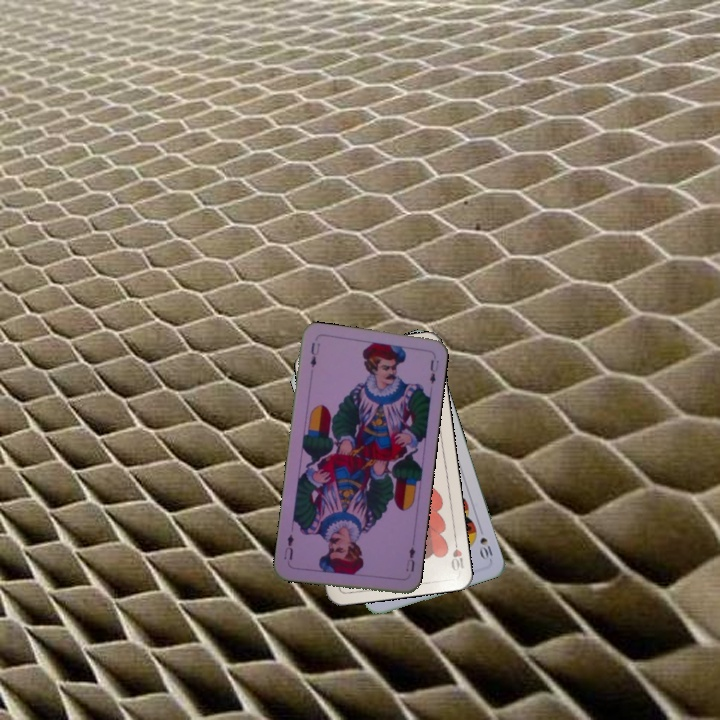EU: (401, 542, 418, 574), (306, 338, 322, 370)
H10: (447, 533, 467, 573)
S10: (475, 523, 495, 562)
